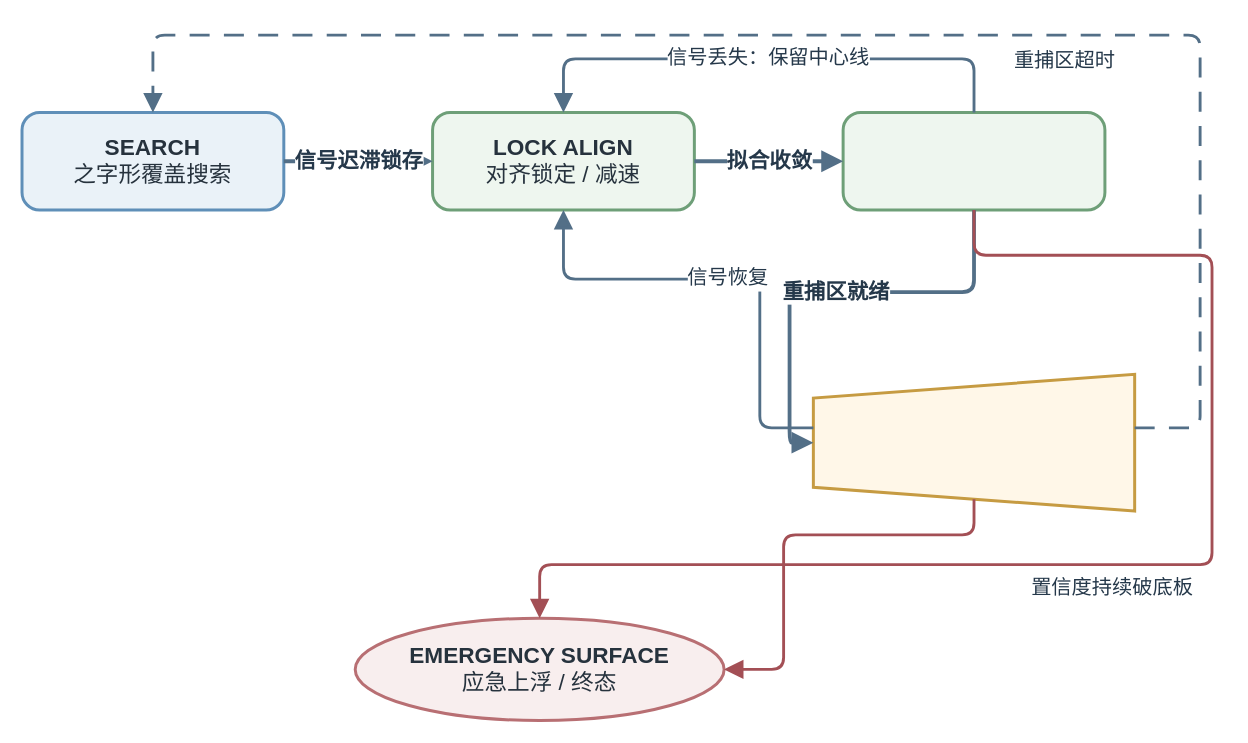
This 1248x743 diagram has some shape labels left out. Each missing label, with the centre of its shape:
"REACQUIRE 有界区域重捕" goes at (x=973, y=442).
"TRACK ACTIVE 声磁协同跟踪" goes at (x=973, y=160).
